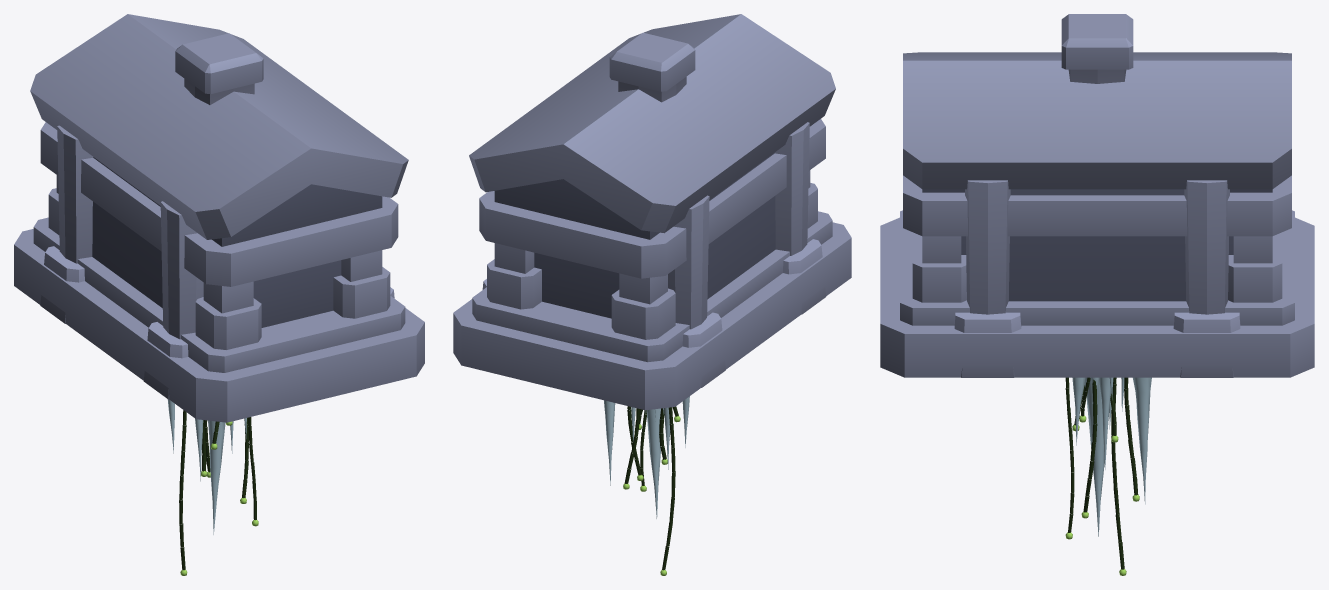
File: biome.glb
3 renders of one model, left to right at view 1: azimuth 30°, elevation 25°; view 2: azimuth 150°, elevation 25°; view 3: azimuth 270°, elevation 25°, orthographic. The views are drawn at different scales.
Parts seen in each view (by area): view 1: BM_Crypt, BM_CryptSmall, BM_Column, BM_Vines1, BM_Icicles2; view 2: BM_Crypt, BM_CryptSmall, BM_Column, BM_Icicles2, BM_Vines1; view 3: BM_Crypt, BM_CryptSmall, BM_Column, BM_Icicles2, BM_Vines1.
Boxes of the visible parts, bbox=[...] form: BM_Crypt: bbox=[14, 14, 424, 422]; BM_CryptSmall: bbox=[40, 125, 394, 399]; BM_Column: bbox=[175, 33, 263, 104]; BM_Vines1: bbox=[179, 410, 256, 570]; BM_Icicles2: bbox=[167, 399, 246, 534]; BM_Crypt: bbox=[453, 14, 851, 410]; BM_CryptSmall: bbox=[482, 122, 826, 387]; BM_Column: bbox=[609, 32, 695, 102]; BM_Icicles2: bbox=[604, 396, 689, 518]; BM_Vines1: bbox=[624, 406, 675, 570]; BM_Crypt: bbox=[880, 52, 1314, 377]; BM_CryptSmall: bbox=[954, 180, 1240, 377]; BM_Column: bbox=[1061, 14, 1133, 83]; BM_Icicles2: bbox=[1072, 377, 1151, 536]; BM_Vines1: bbox=[1065, 377, 1138, 569].
Size of the model in its own units: 2.97 by 6.54 by 4.58.
